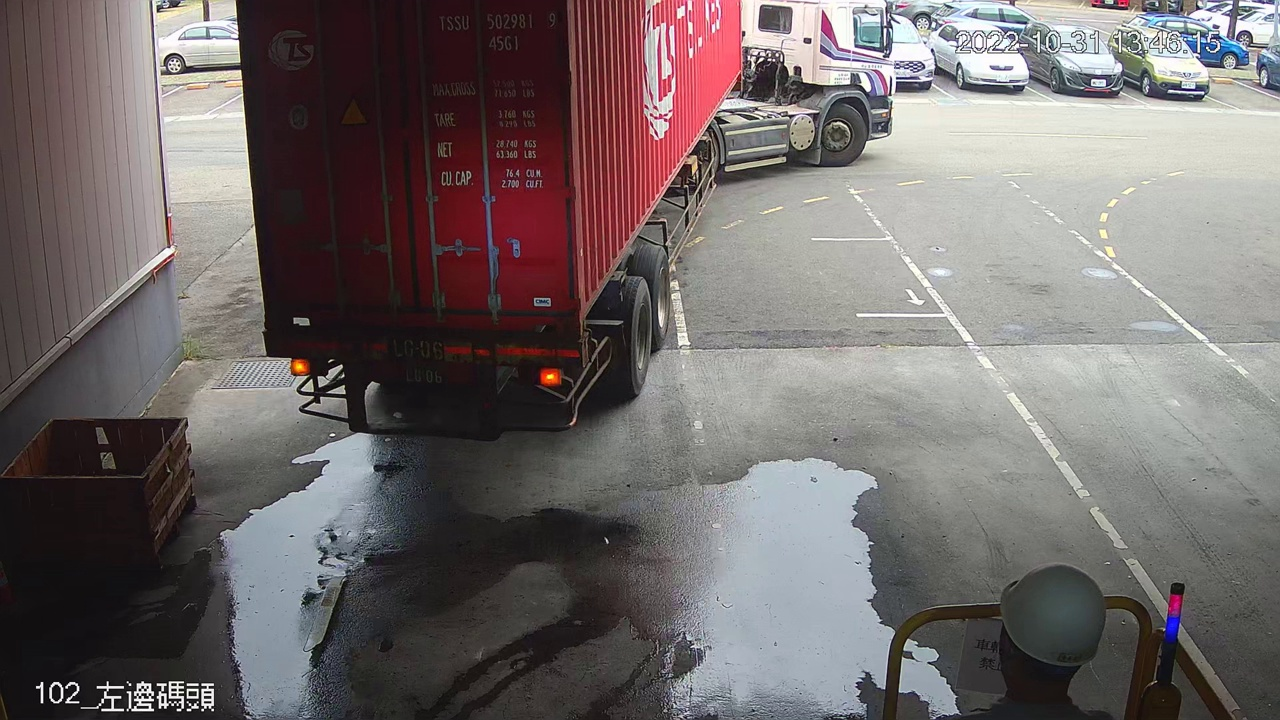container: (433, 9, 565, 55)
